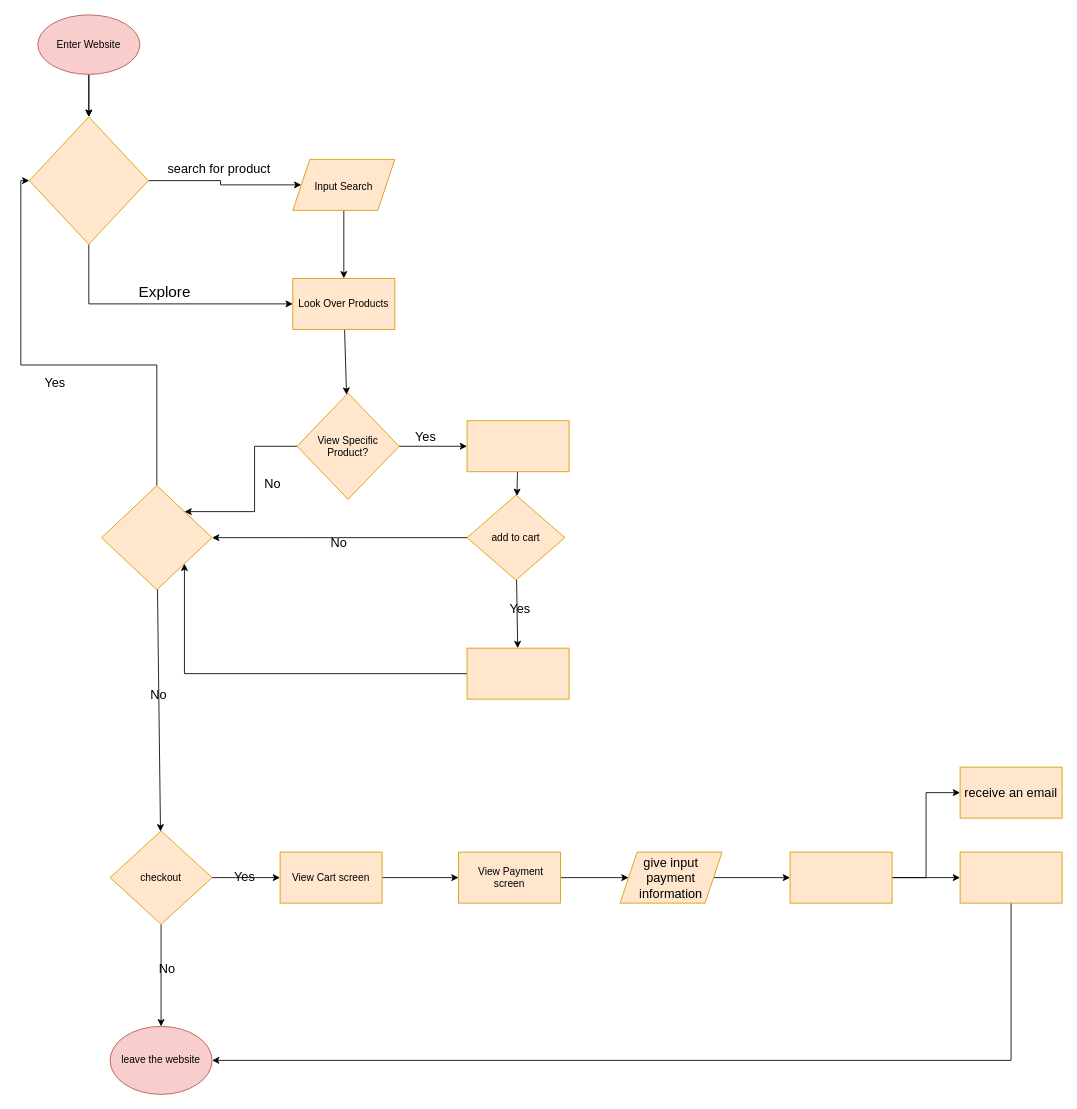
Image size: 1077x1109. Some labels were removed from this diagram. The shapes that lost their labels are listed below. From the top down, each one's centre as x and y in pixels, then its label:
the point at 88,180: Search for product or Explore on homepage?
the point at 517,446: View Product Webpage
the point at 156,537: Continue Shopping
the point at 517,673: receive an added to cart confirmation
the point at 840,877: Paid
the point at 1010,877: order confirmation screen
